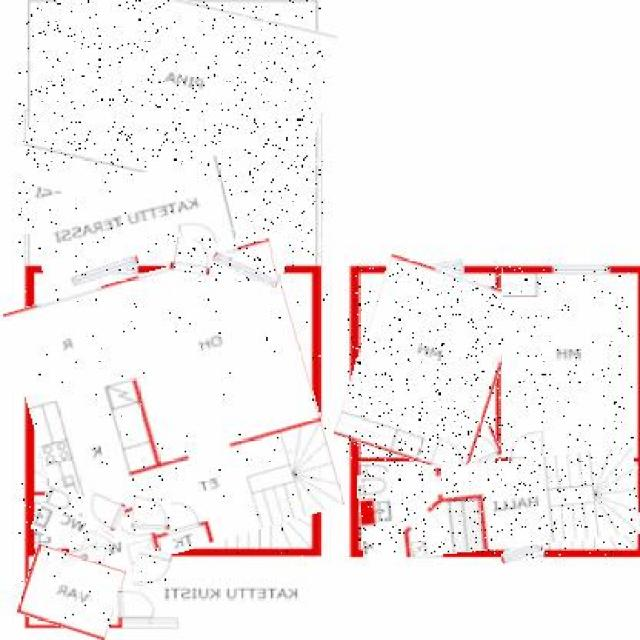door: (18, 256, 330, 564), (31, 166, 232, 277), (22, 549, 123, 634), (34, 491, 120, 554), (171, 238, 214, 276), (132, 491, 171, 532), (82, 492, 125, 528), (460, 428, 500, 466), (508, 428, 549, 464), (134, 548, 171, 586), (114, 591, 155, 615)
window: (212, 256, 280, 282), (71, 260, 140, 280), (403, 258, 463, 277), (502, 545, 544, 563), (554, 266, 609, 276), (411, 551, 443, 557)
zone: (18, 0, 324, 275), (346, 263, 511, 468), (358, 454, 638, 555), (502, 267, 636, 458)
